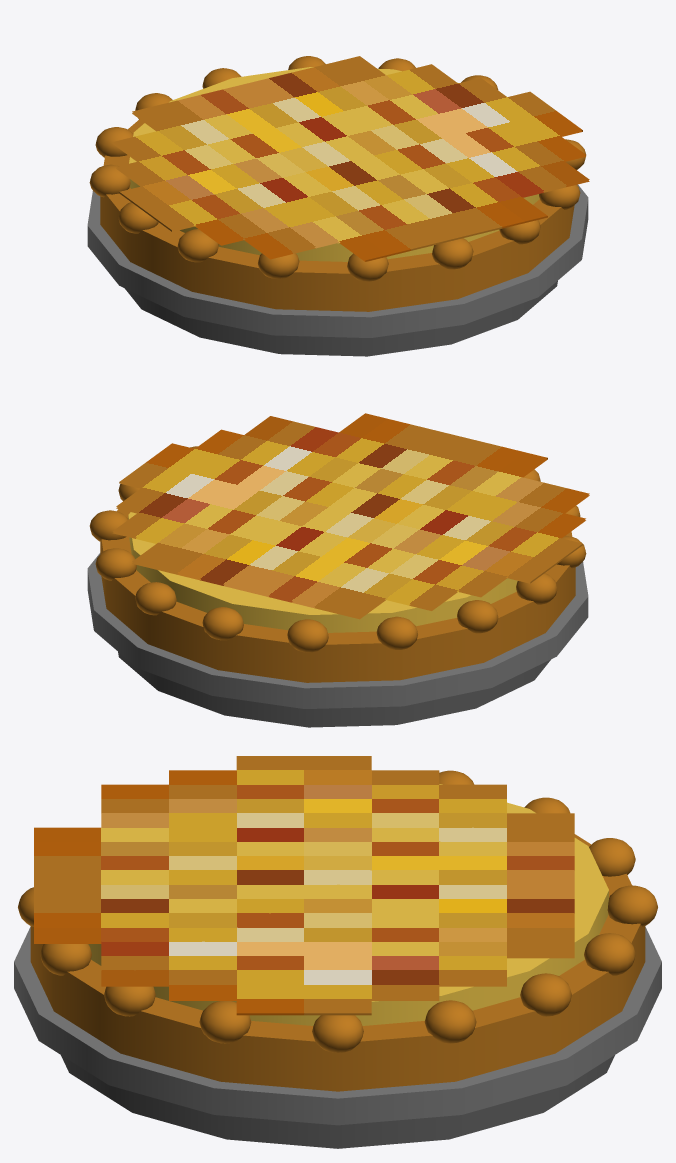
The model's file is CMU3DBakedPieCherry.glb.
3 renders of one model, top to bottom at view 1: azimuth 30°, elevation 25°; view 2: azimuth 150°, elevation 25°; view 3: azimuth 270°, elevation 25°, orthographic. The views are drawn at different scales.
Parts seen in each view (by area): view 1: original pastry lattice and filling, solid pastry shell, rolled pan lip, metal pie pan, baked filling, crimped crust edge 10, crimped crust edge 13, crimped crust edge 8, crimped crust edge 12, crimped crust edge 11, crimped crust edge 9, crimped crust edge 7 (+2 smaller); view 2: original pastry lattice and filling, solid pastry shell, rolled pan lip, baked filling, metal pie pan, crimped crust edge 6, crimped crust edge 7, crimped crust edge 5, crimped crust edge 8, crimped crust edge 4, crimped crust edge 3, crimped crust edge 9 (+1 smaller); view 3: original pastry lattice and filling, solid pastry shell, rolled pan lip, metal pie pan, baked filling, crimped crust edge 2, crimped crust edge 3, crimped crust edge 4, crimped crust edge 16, crimped crust edge 5, crimped crust edge 1, crimped crust edge 6 (+2 smaller).
Part boxes in pixels (<box>): original pastry lattice and filling: <box>112,56,589,261</box>; solid pastry shell: <box>100,119,574,311</box>; rolled pan lip: <box>87,184,588,337</box>; metal pie pan: <box>125,281,557,356</box>; baked filling: <box>129,67,539,261</box>; crimped crust edge 10: <box>177,229,218,262</box>; crimped crust edge 13: <box>432,238,473,269</box>; crimped crust edge 8: <box>89,164,130,197</box>; crimped crust edge 12: <box>347,253,388,281</box>; crimped crust edge 11: <box>258,253,299,278</box>; crimped crust edge 9: <box>118,202,158,233</box>; crimped crust edge 7: <box>95,127,133,157</box>; original pastry lattice and filling: <box>112,413,589,619</box>; solid pastry shell: <box>100,509,575,682</box>; rolled pan lip: <box>87,553,588,708</box>; baked filling: <box>128,512,517,632</box>; metal pie pan: <box>118,652,550,727</box>; crimped crust edge 6: <box>287,619,328,652</box>; crimped crust edge 7: <box>376,616,417,649</box>; crimped crust edge 5: <box>202,607,243,640</box>; crimped crust edge 8: <box>457,600,498,633</box>; crimped crust edge 4: <box>135,582,176,615</box>; crimped crust edge 3: <box>95,548,136,580</box>; crimped crust edge 9: <box>516,573,557,604</box>; original pastry lattice and filling: <box>34,756,574,1015</box>; solid pastry shell: <box>30,834,645,1091</box>; rolled pan lip: <box>14,927,661,1125</box>; metal pie pan: <box>61,1055,614,1148</box>; baked filling: <box>88,784,608,1025</box>; crimped crust edge 2: <box>424,1000,476,1043</box>; crimped crust edge 3: <box>520,973,571,1016</box>; crimped crust edge 4: <box>584,933,635,975</box>; crimped crust edge 16: <box>199,1001,251,1043</box>; crimped crust edge 5: <box>607,885,657,926</box>; crimped crust edge 1: <box>312,1015,363,1052</box>; crimped crust edge 6: <box>589,838,635,876</box>.
Size of the model in its own units: 0.5488 by 0.132 by 0.5488.
5 materials, 1 textured.
